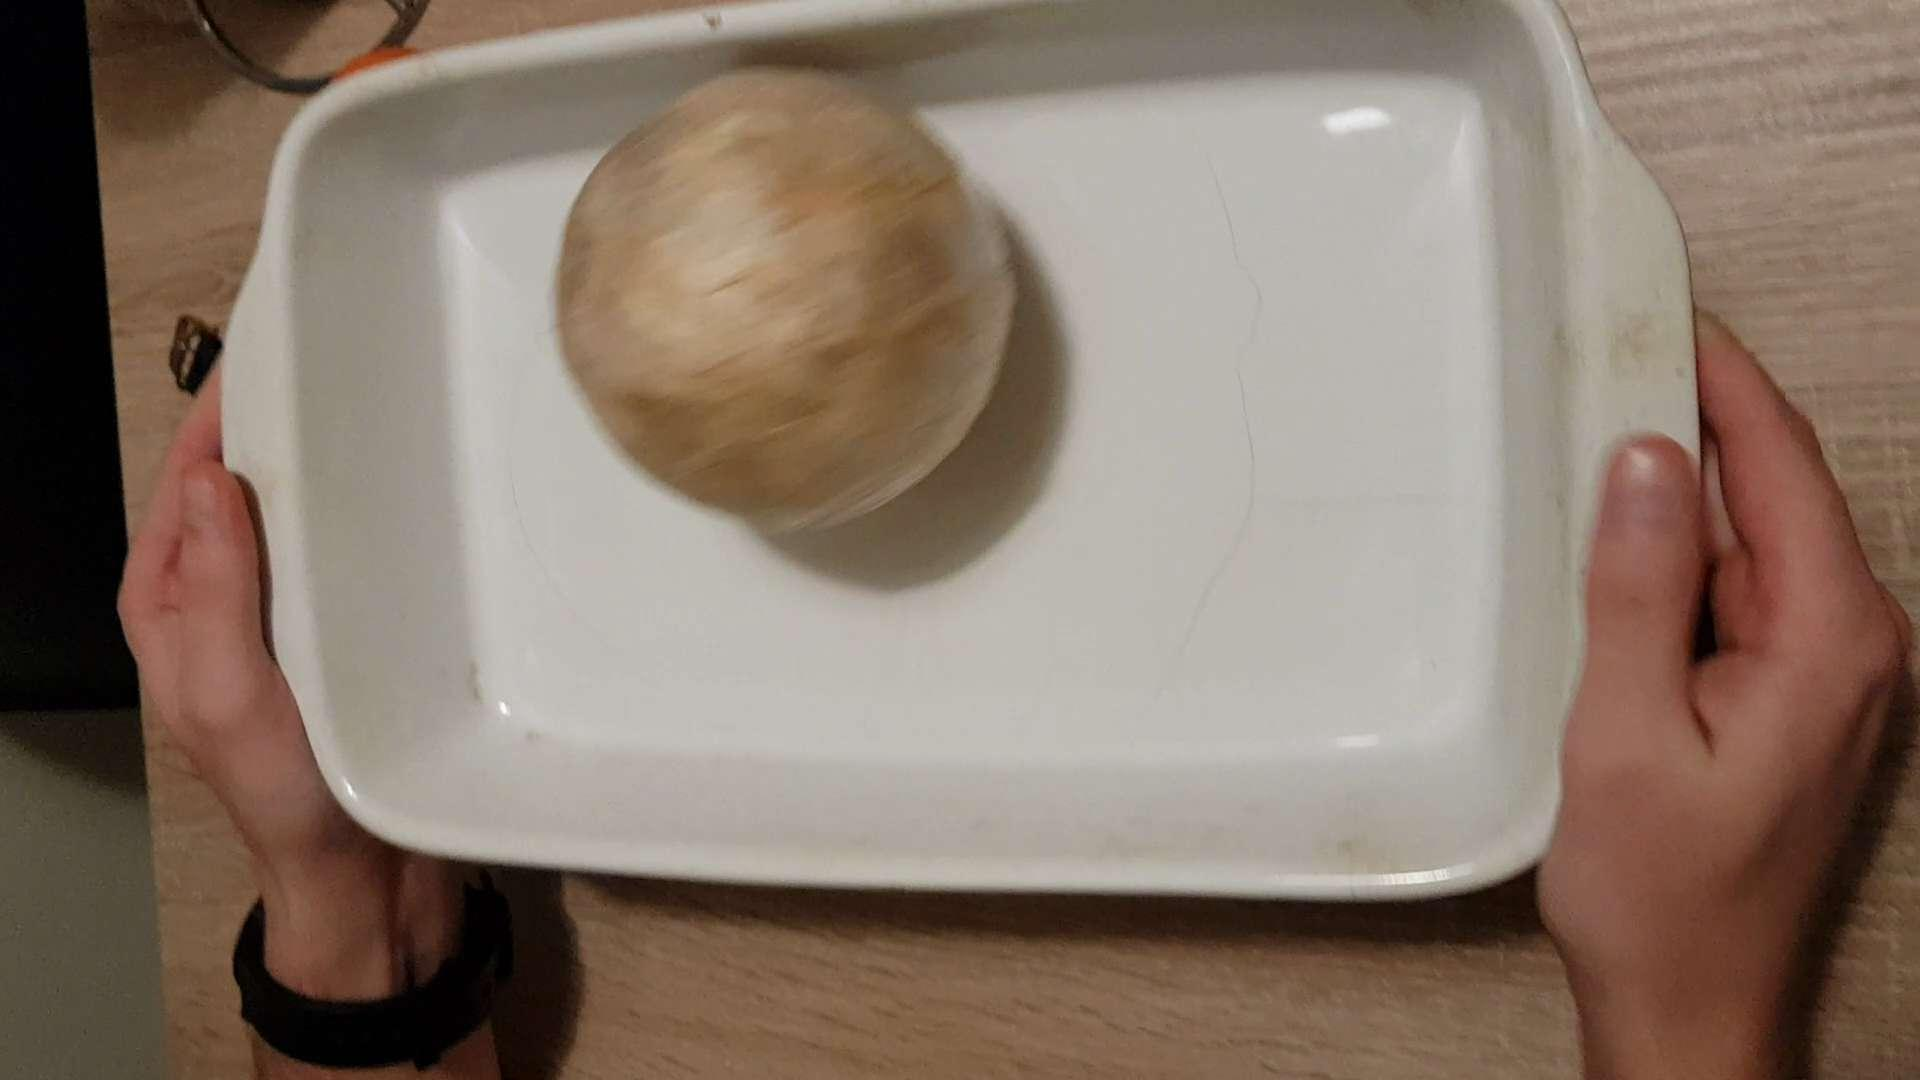Sphere: (545, 62, 1007, 535)
